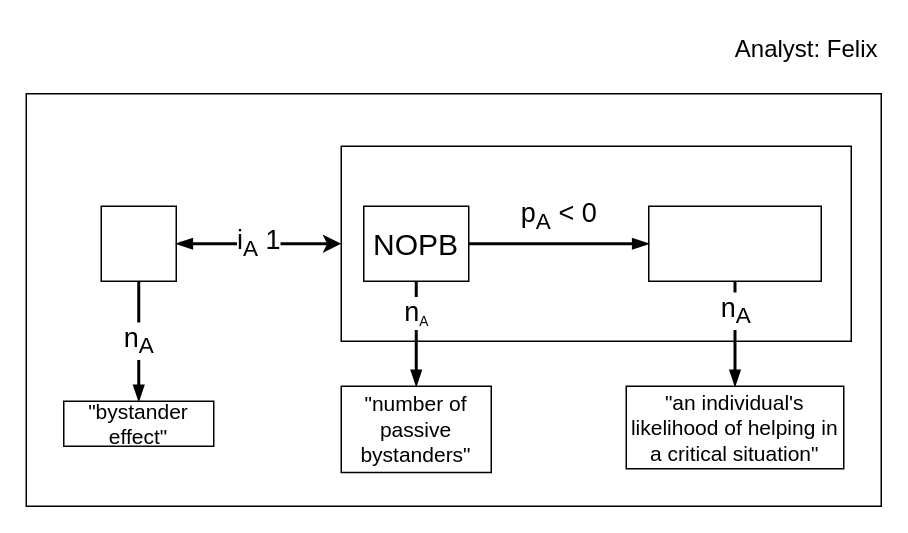
This 908x533 diagram has some shape labels left out. Each missing label, with the box of its shape:
BSE: (100, 205, 176, 281)
p(help_crit): (647, 205, 821, 281)
